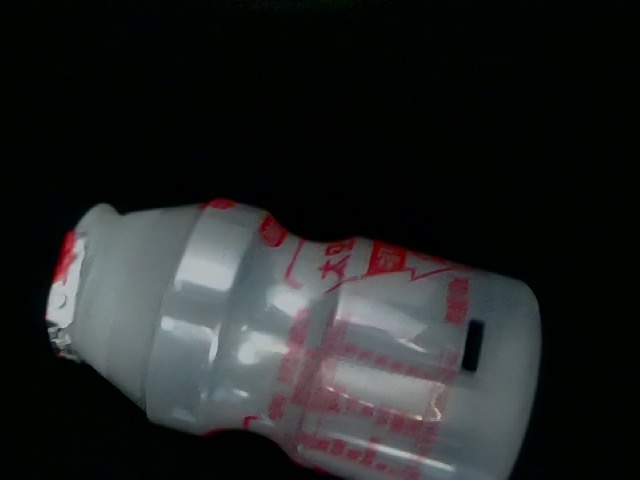CYLJ: (137, 282, 516, 480)
